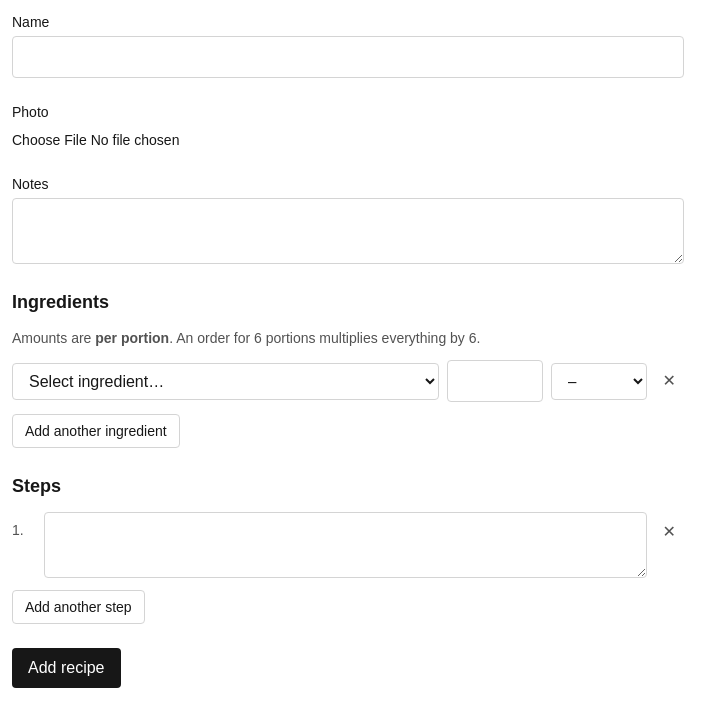
Test: RecipeForm › offers only the units the chosen ingredient can convert
Select "Chicken thigh" in the dropdown named "Ingredient" at coordinates (225, 381), box [12,362,439,400]
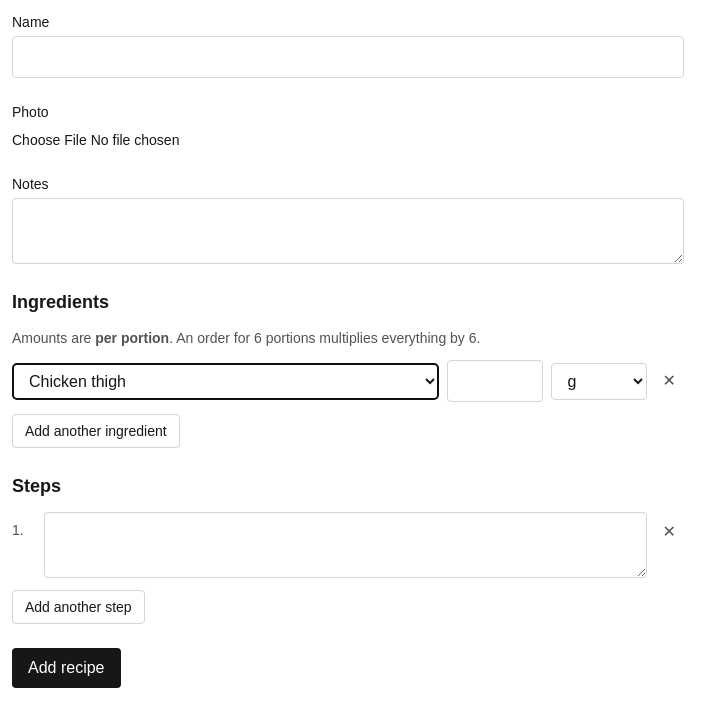
Select "Olive oil" in the dropdown named "Ingredient" at coordinates (225, 381), box [12,362,439,400]
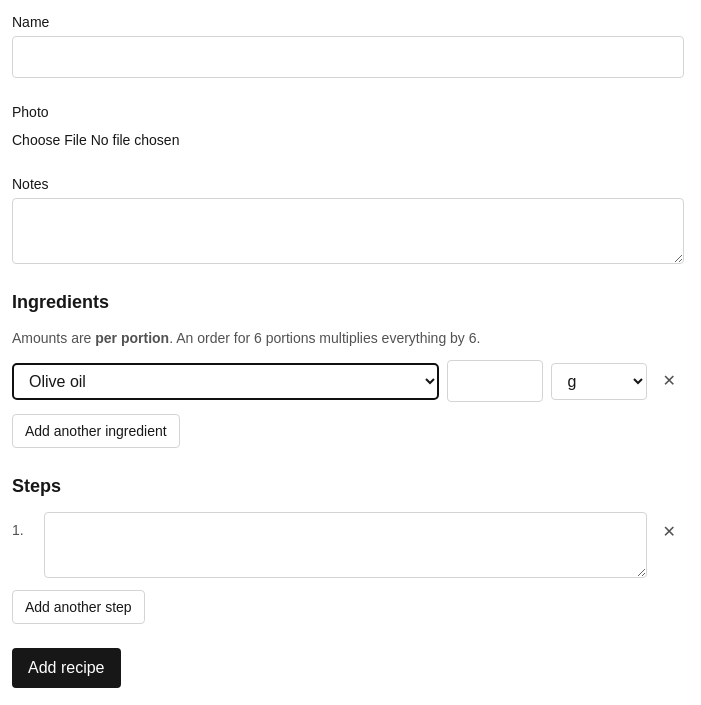
Select "Egg" in the dropdown named "Ingredient" at coordinates (225, 381), box [12,362,439,400]
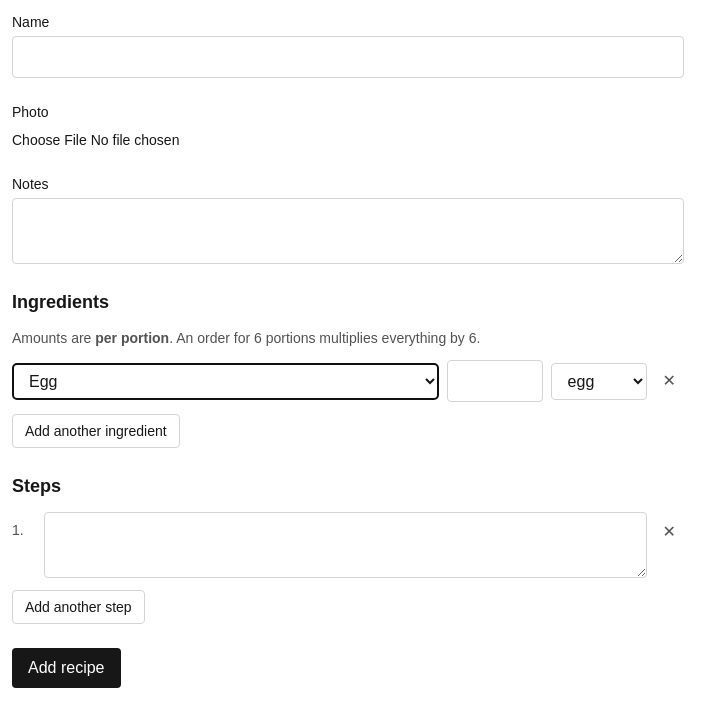
Expected: the dropdown named "Unit" shows "egg", [551,362,647,400]
